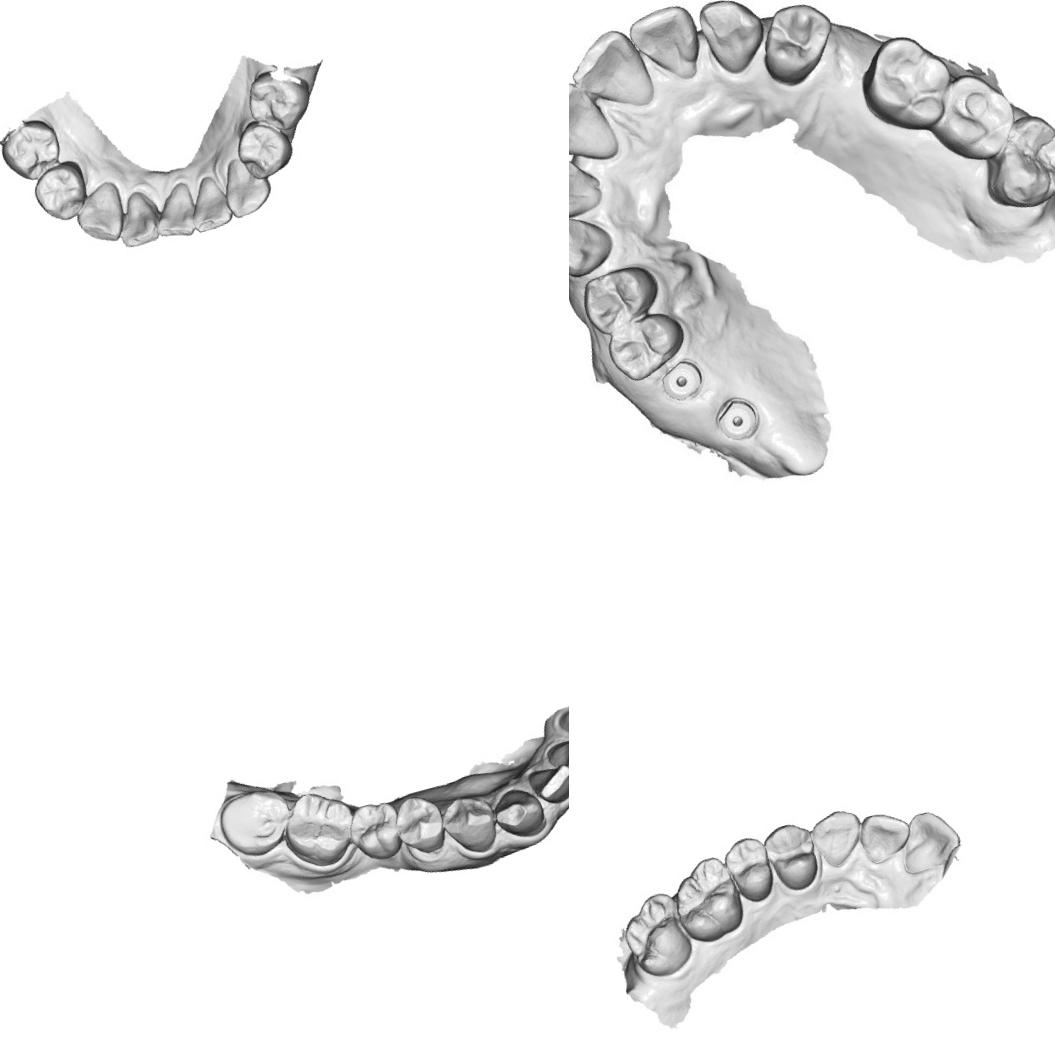canine: (691, 0, 775, 80), (804, 802, 870, 873), (69, 178, 132, 250), (485, 779, 551, 844), (214, 151, 276, 220), (569, 204, 619, 284)
implant: (707, 387, 767, 450), (658, 354, 712, 408)
incisor: (569, 21, 654, 119), (622, 0, 707, 94), (889, 802, 967, 878), (569, 72, 620, 174), (853, 803, 918, 868), (145, 178, 201, 243), (181, 170, 235, 235), (110, 188, 162, 250), (569, 142, 608, 222), (523, 758, 569, 809), (541, 730, 569, 781), (550, 687, 569, 741)
molar: (850, 20, 964, 144), (921, 64, 1024, 168), (970, 103, 1055, 220), (273, 780, 366, 876), (662, 850, 750, 950), (612, 886, 698, 986), (211, 781, 299, 863)
premolar: (749, 0, 846, 93), (596, 306, 693, 388), (573, 259, 665, 336), (239, 60, 318, 137), (435, 786, 507, 866), (757, 816, 825, 898), (716, 830, 780, 909), (342, 794, 410, 868), (0, 113, 66, 186), (230, 112, 298, 182), (386, 789, 451, 862), (27, 156, 94, 226)
